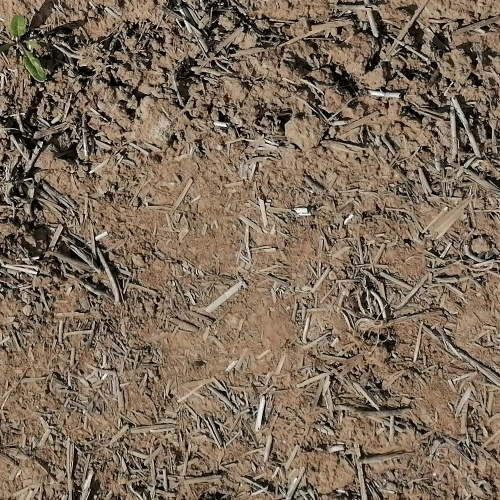beet: (0, 14, 47, 84)
